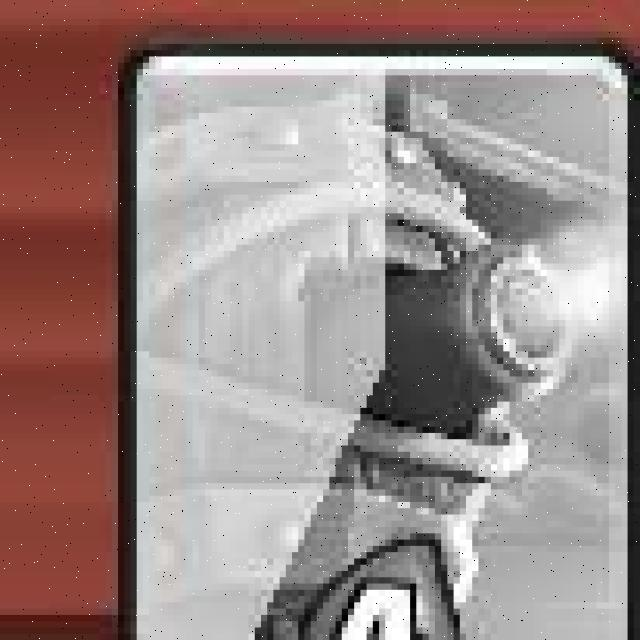Flying_Machine: (121, 46, 638, 640)
